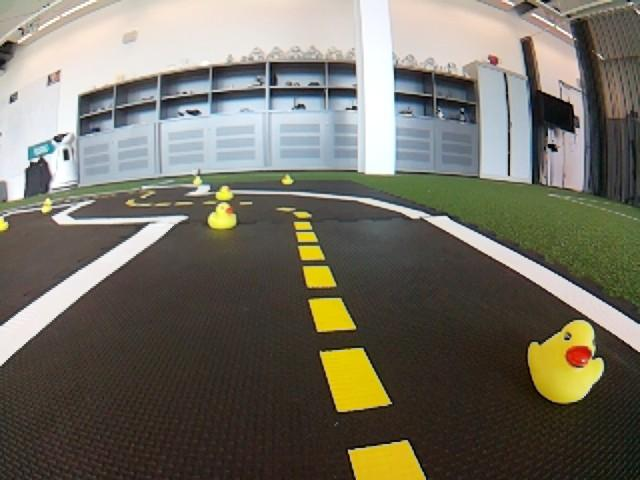Duckies: (526, 321, 601, 406), (208, 202, 237, 229), (216, 186, 234, 200), (0, 216, 8, 232), (281, 175, 293, 184), (42, 204, 54, 213), (194, 176, 202, 186), (44, 198, 53, 206)
